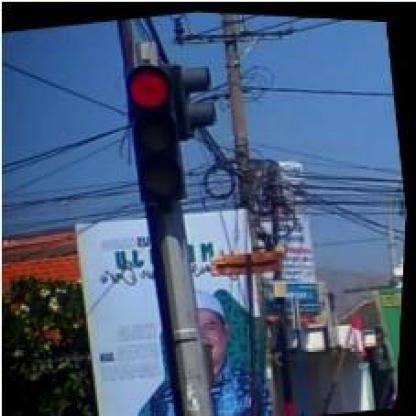red: (121, 57, 191, 203)
